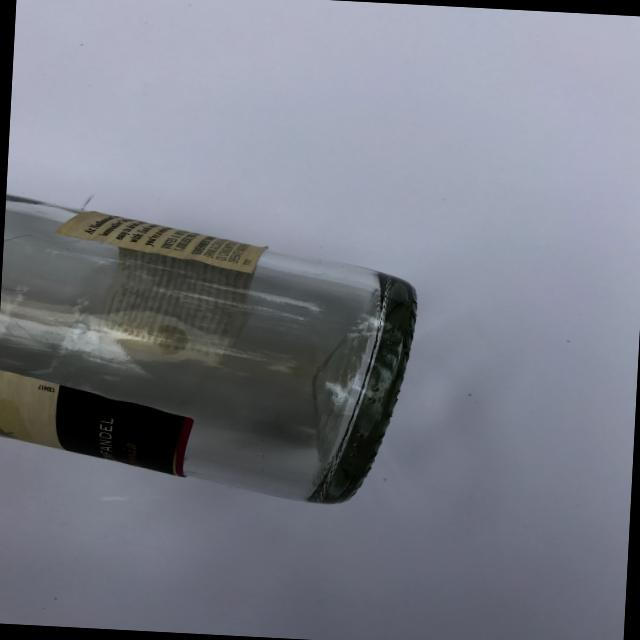Glass: (0, 137, 437, 531)
